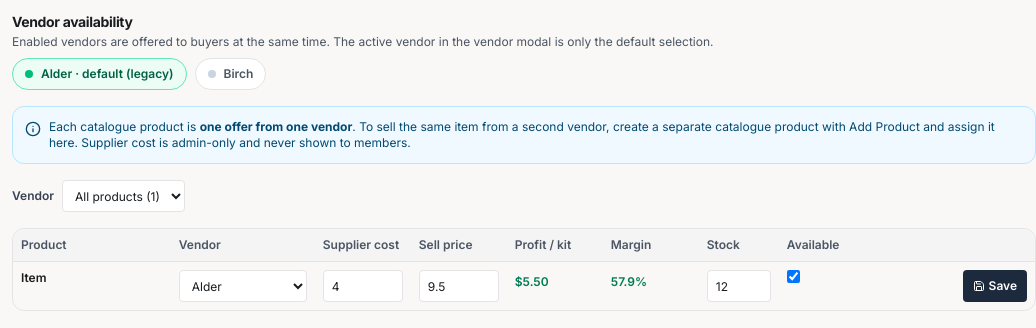
Test case: toggles availability and saves a row with the exact contract
The width and height of the screenshot is (1036, 328).
Expected: the cell with test id "mv-profit-p1" reads "$5.50", top-left (515, 274), bottom-right (549, 289)
Expected: the cell with test id "mv-margin-p1" reads "57.9%", top-left (611, 274), bottom-right (647, 289)
Click the switch with test id "toggle-vendor-b".
click(230, 74)  # box top-left (194, 58), bottom-right (266, 90)
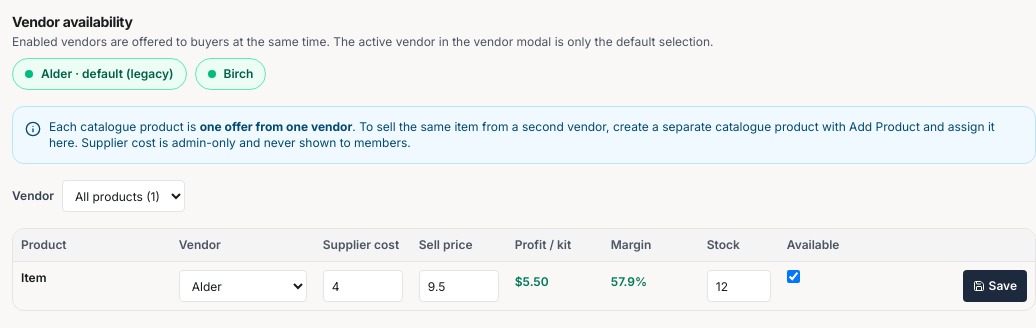
Click the button with test id "button-mv-save-p1".
click(995, 286)  # box top-left (963, 270), bottom-right (1027, 302)
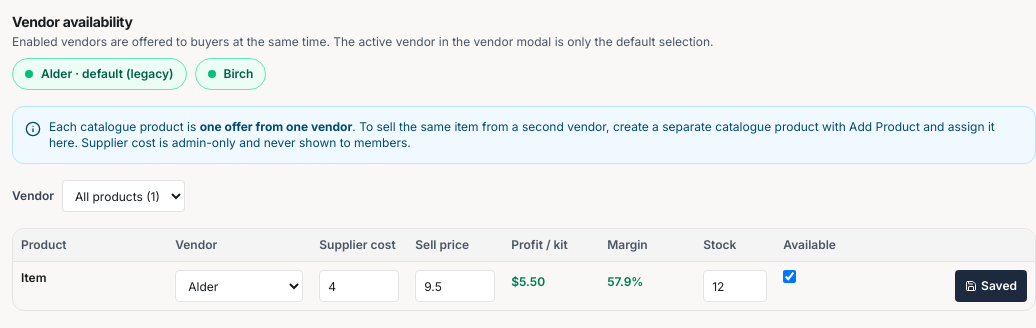
Expected: the text "Saved" is shown, top-left (955, 270), bottom-right (1027, 302)
